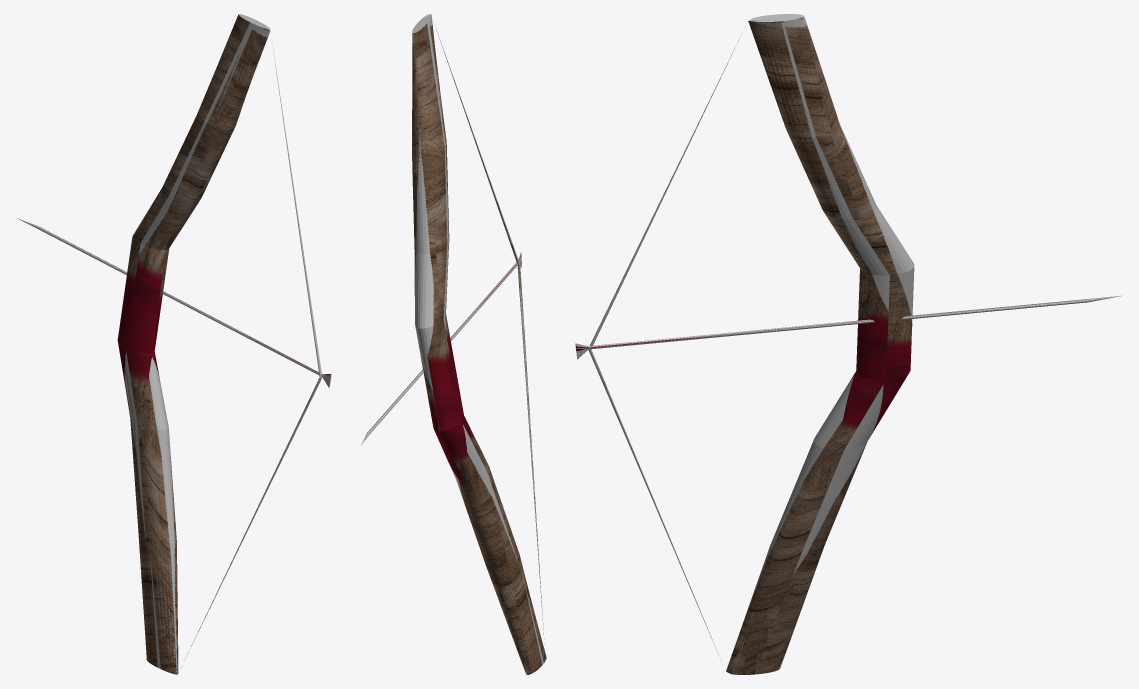
Rendered from Arco13.obj.
The picture shows the model from 3 angles, left to right: view 1: azimuth 30°, elevation 25°; view 2: azimuth 150°, elevation 25°; view 3: azimuth 270°, elevation 25°; orthographic projection. The views are drawn at different scales.
Visible parts, largest first — view 1: Cilindro; view 2: Cilindro; view 3: Cilindro.
Boxes of the visible parts, x1,y1,x2,y2 form: Cilindro: (17,14,331,674); Cilindro: (361,14,546,674); Cilindro: (575,14,1122,674).
Bounding box in the file's own units: 0.1886 × 0.9705 × 0.6791.
1 material, 1 textured.
